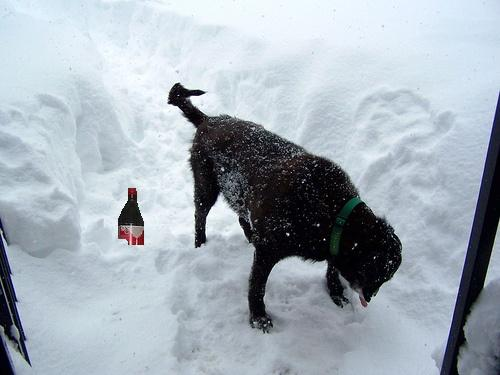tampered: (119, 189, 144, 245)
